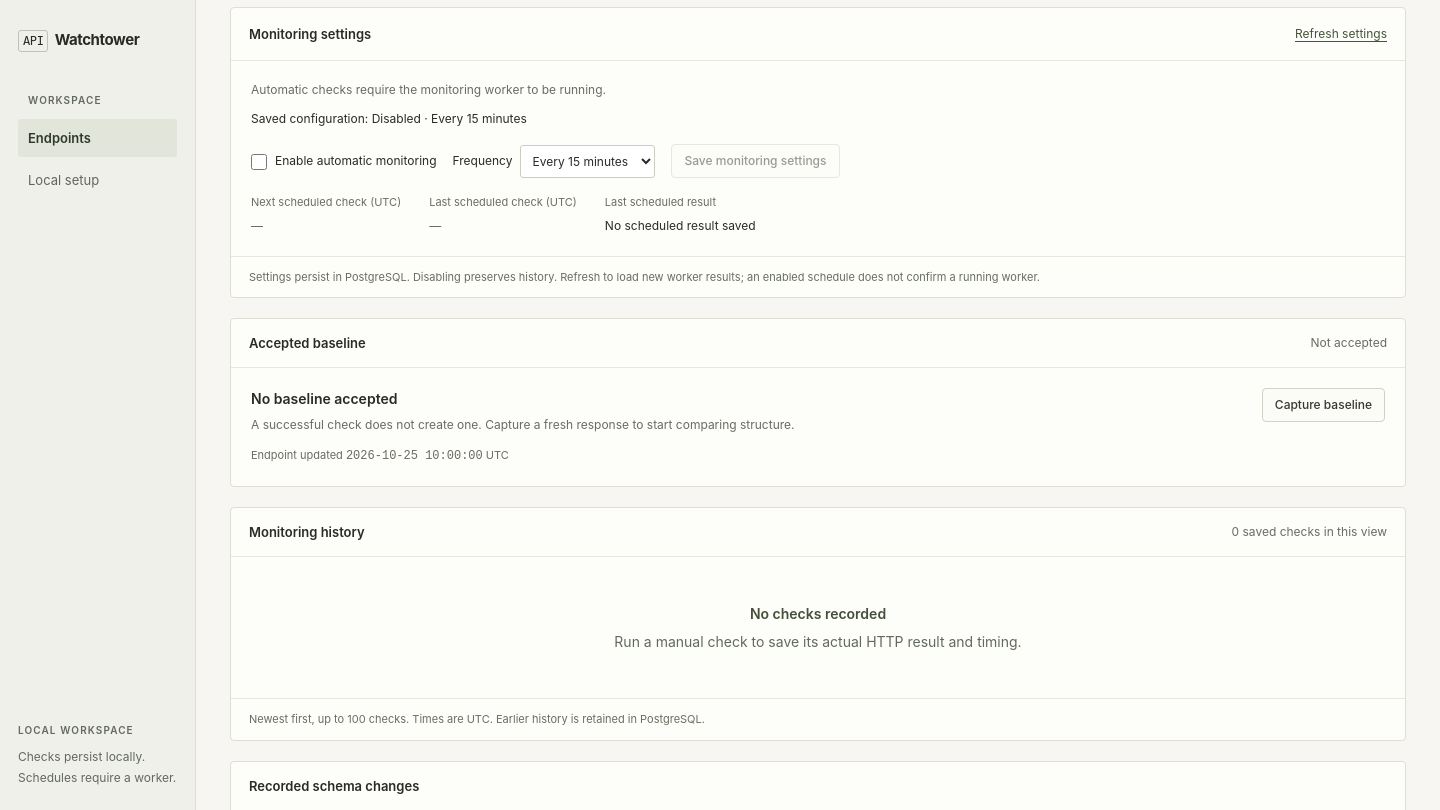
Test: explicit baseline acceptance › requires deliberate confirmation and submits the exact loaded updatedAt
The width and height of the screenshot is (1440, 810).
(page scrolled)
Expected: the heading "No checks recorded" is shown, [750,605,886,622]
Click the button "Capture baseline" at point(1323, 405), box [1262,388,1385,422]
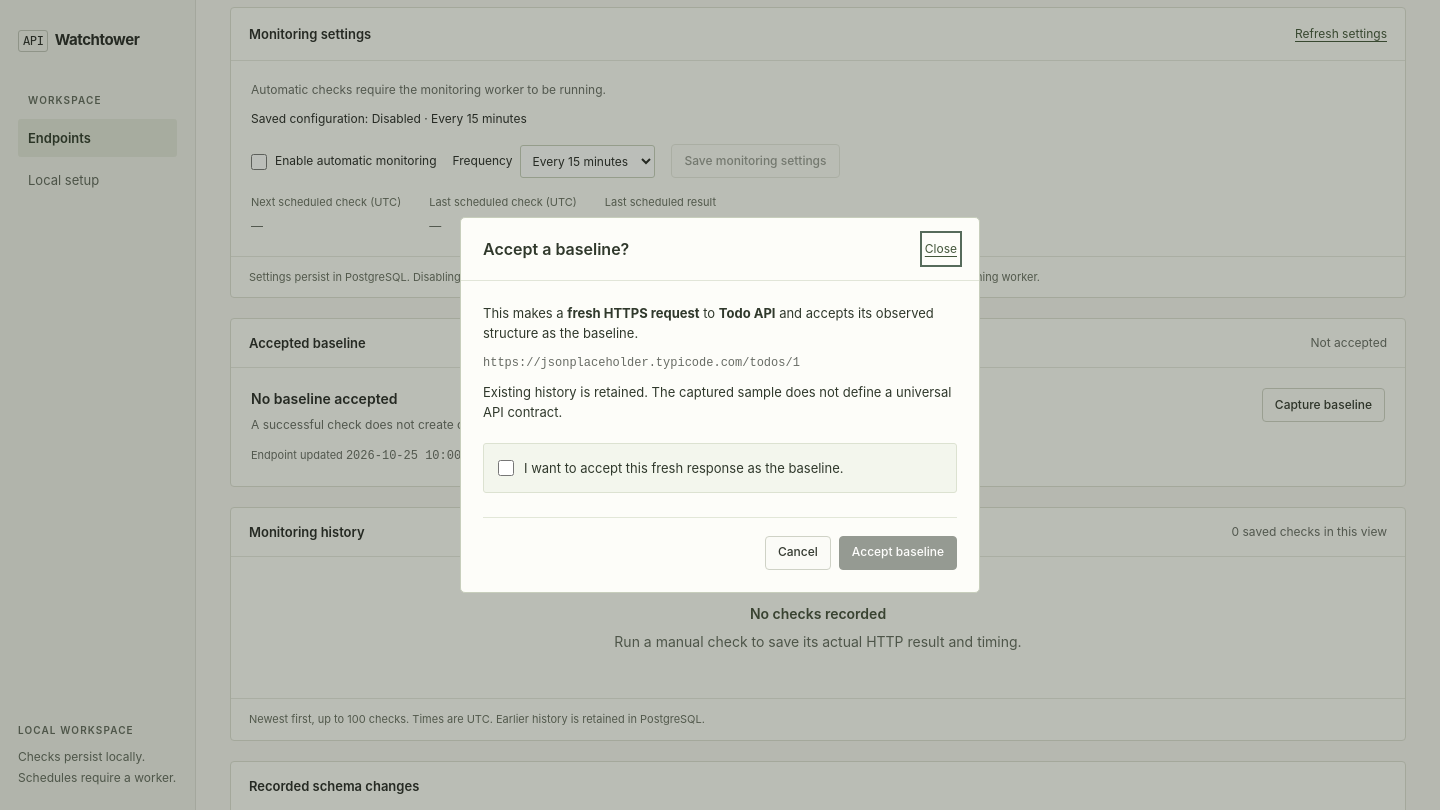
Expected: the button "Accept baseline" is disabled, [839,536,957,570]
Click the checkbox at point(506, 468), box [498,460,514,476]
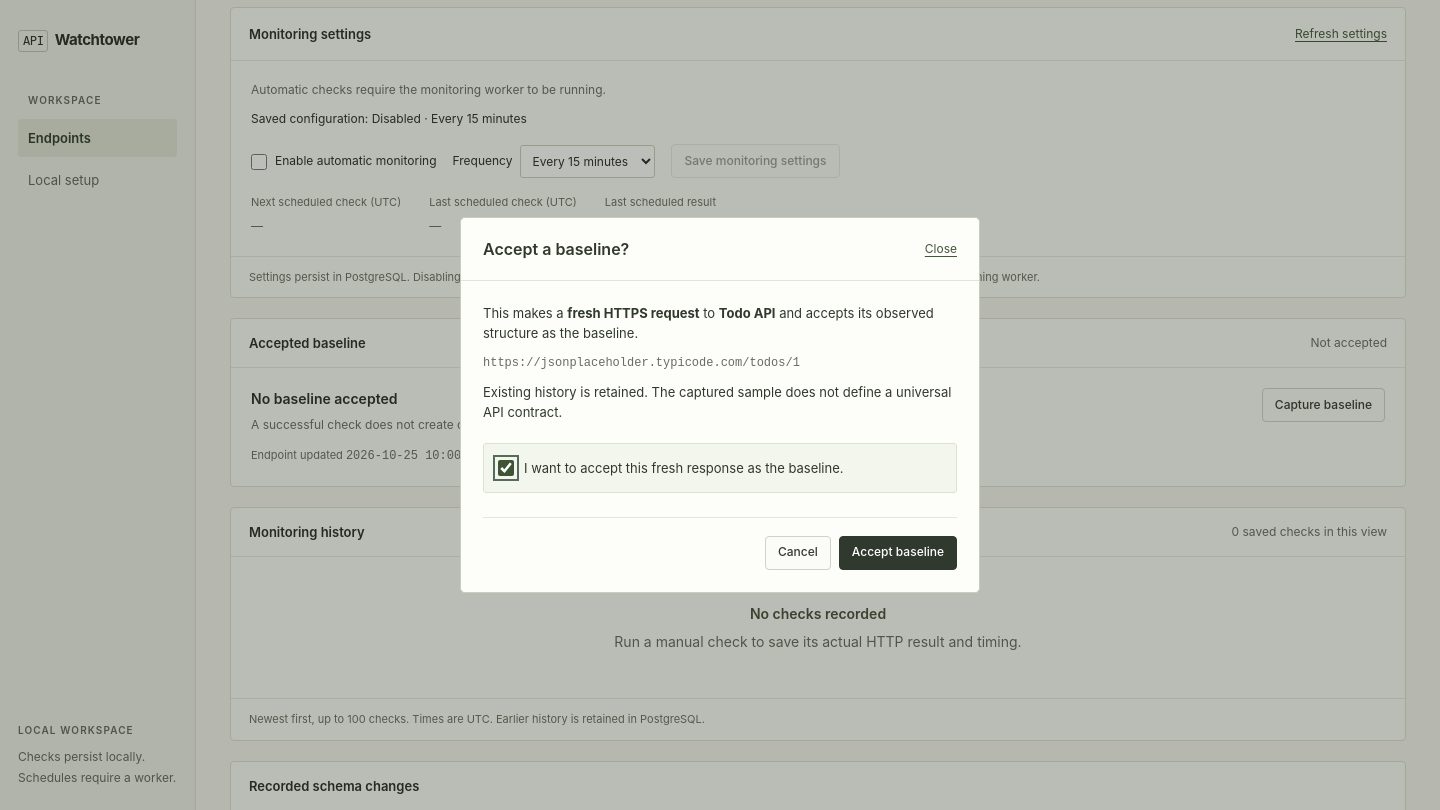
Click the button "Accept baseline" at point(898, 553), box [839,536,957,570]
(page scrolled)
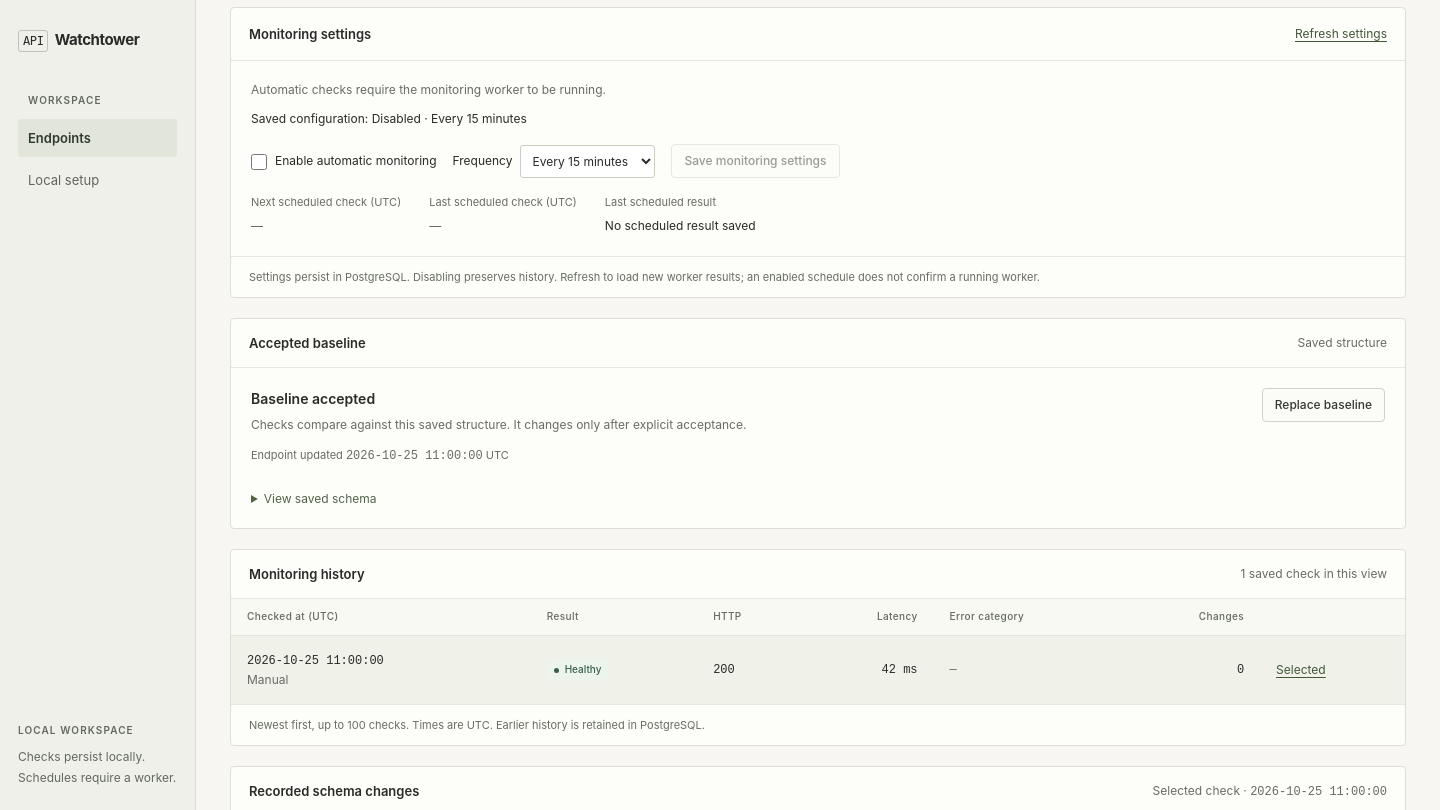
Expected: the heading "View saved schema" is shown, [264,491,376,506]
